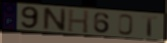0: (119, 14, 135, 36)
6: (93, 12, 111, 34)
9: (20, 6, 41, 30)
H: (67, 8, 90, 34)
N: (42, 7, 68, 32)
T: (141, 15, 158, 38)
